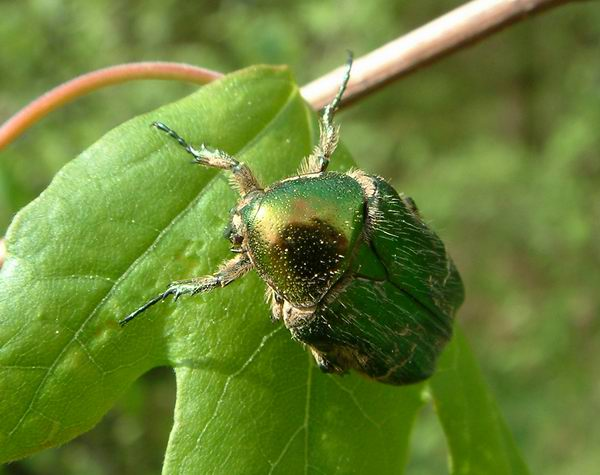Cetonia_aurata: (120, 48, 471, 392)
